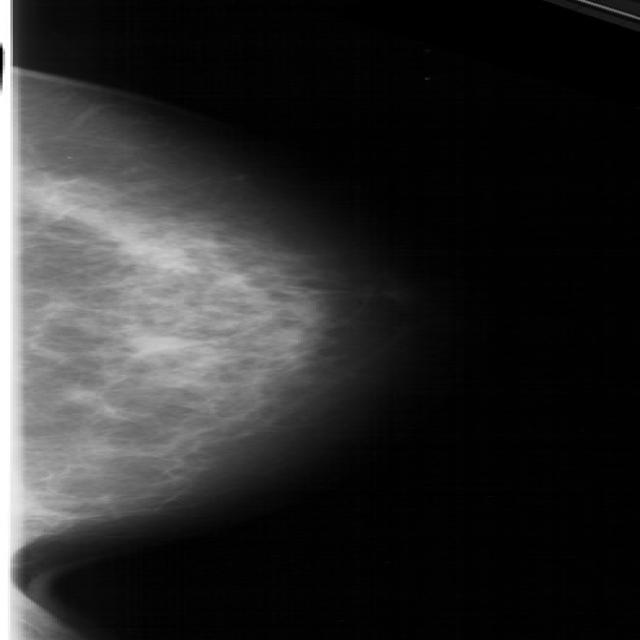tumour: (114, 235, 189, 267)
